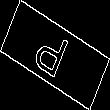P_SW: (33, 24, 77, 86)
